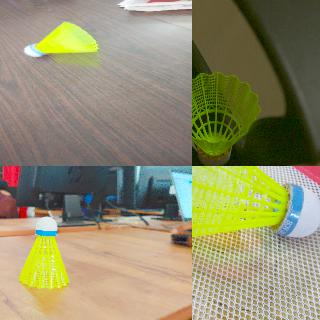shuttlecock: (192, 166, 319, 244), (192, 72, 261, 165), (18, 216, 70, 288), (24, 21, 98, 57)
